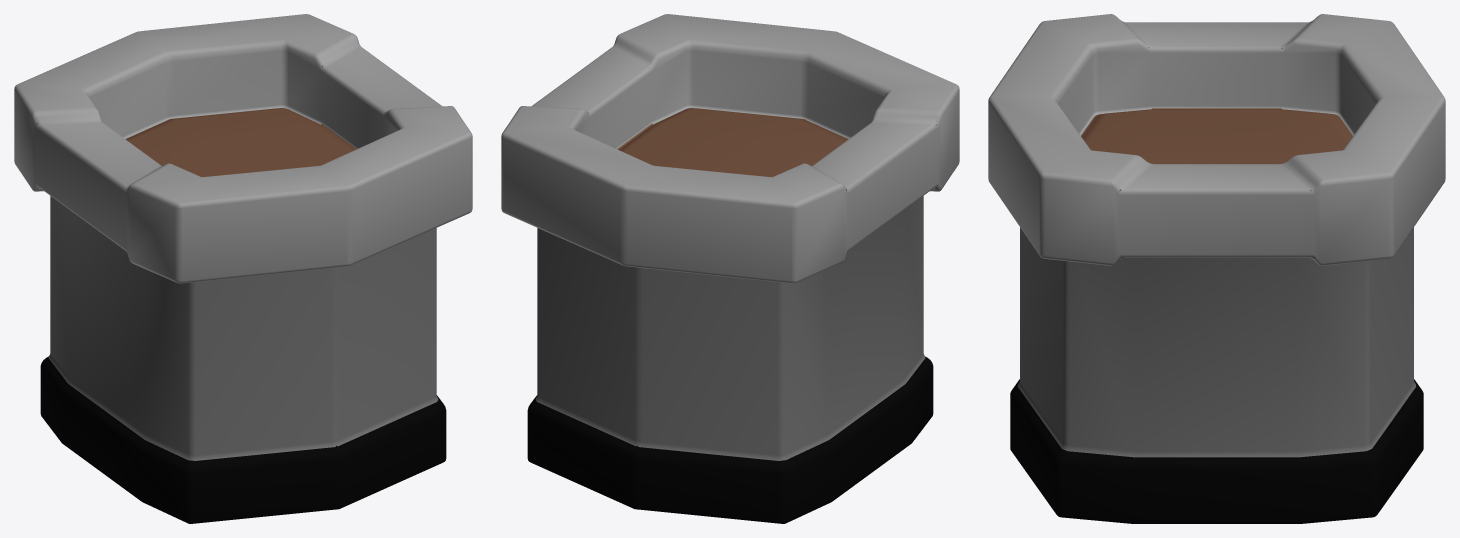
File: torre_centro.fbx
3 views of the same model, side by side, from view 1: azimuth 30°, elevation 25°; view 2: azimuth 150°, elevation 25°; view 3: azimuth 270°, elevation 25° (orthographic). The views are drawn at different scales.
Visible parts, largest first — view 1: Cube.009; view 2: Cube.009; view 3: Cube.009.
Part boxes in pixels (left/top/right/bottom): Cube.009: left=14, top=14, right=472, bottom=523; Cube.009: left=501, top=14, right=959, bottom=523; Cube.009: left=988, top=14, right=1445, bottom=523.
Bounding box in the file's own units: 106 × 103 × 120.
1 material, 1 textured.
